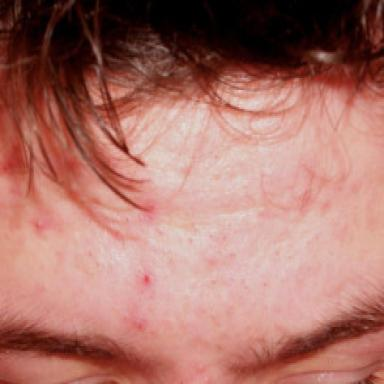acne: (33, 217, 46, 234), (143, 198, 155, 214), (133, 317, 146, 329), (143, 272, 152, 286)
